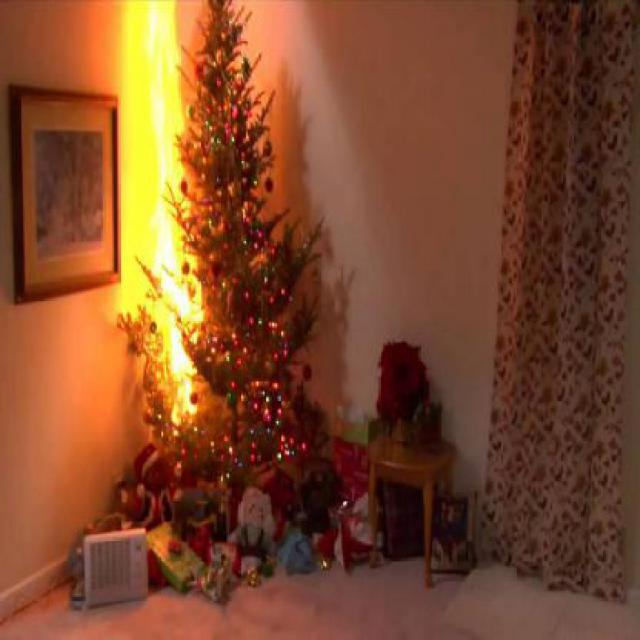fire: (122, 6, 215, 432)
